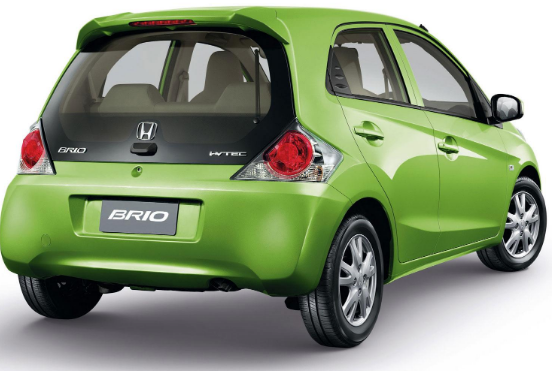car: (1, 8, 548, 353)
